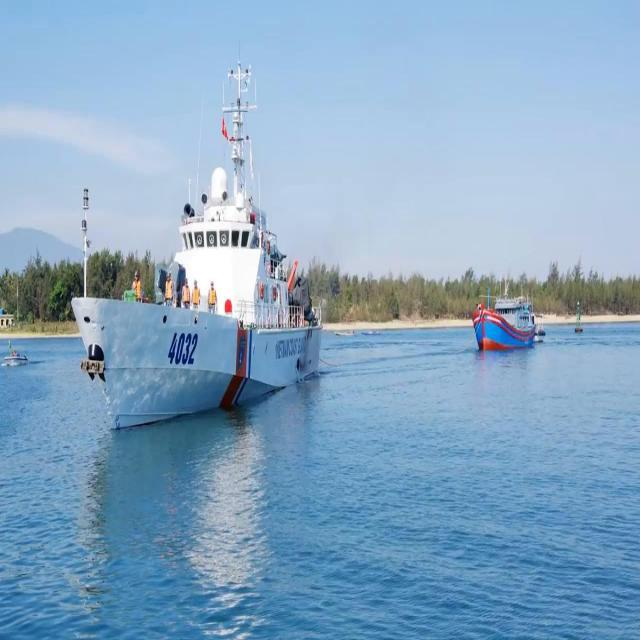Ship: (72, 66, 324, 435), (474, 289, 539, 351), (5, 348, 31, 370)
